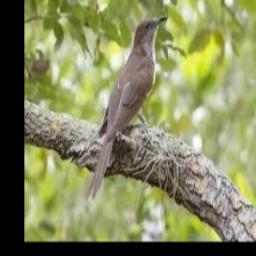Cuckoo: (84, 15, 168, 204)
